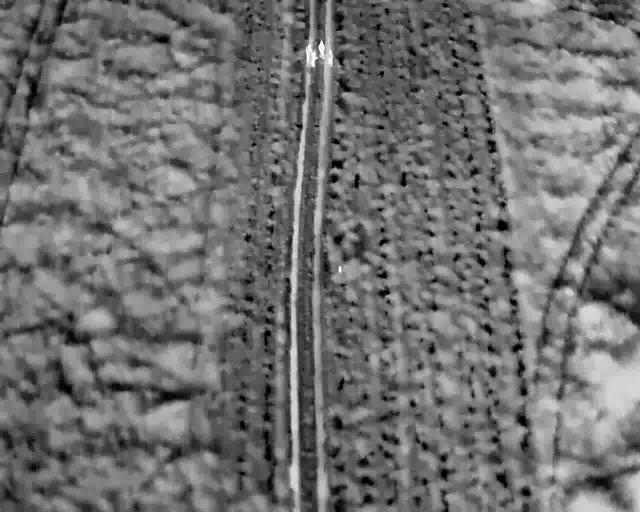person: (304, 42, 314, 65), (316, 39, 327, 59), (326, 46, 335, 66), (310, 49, 319, 69)
